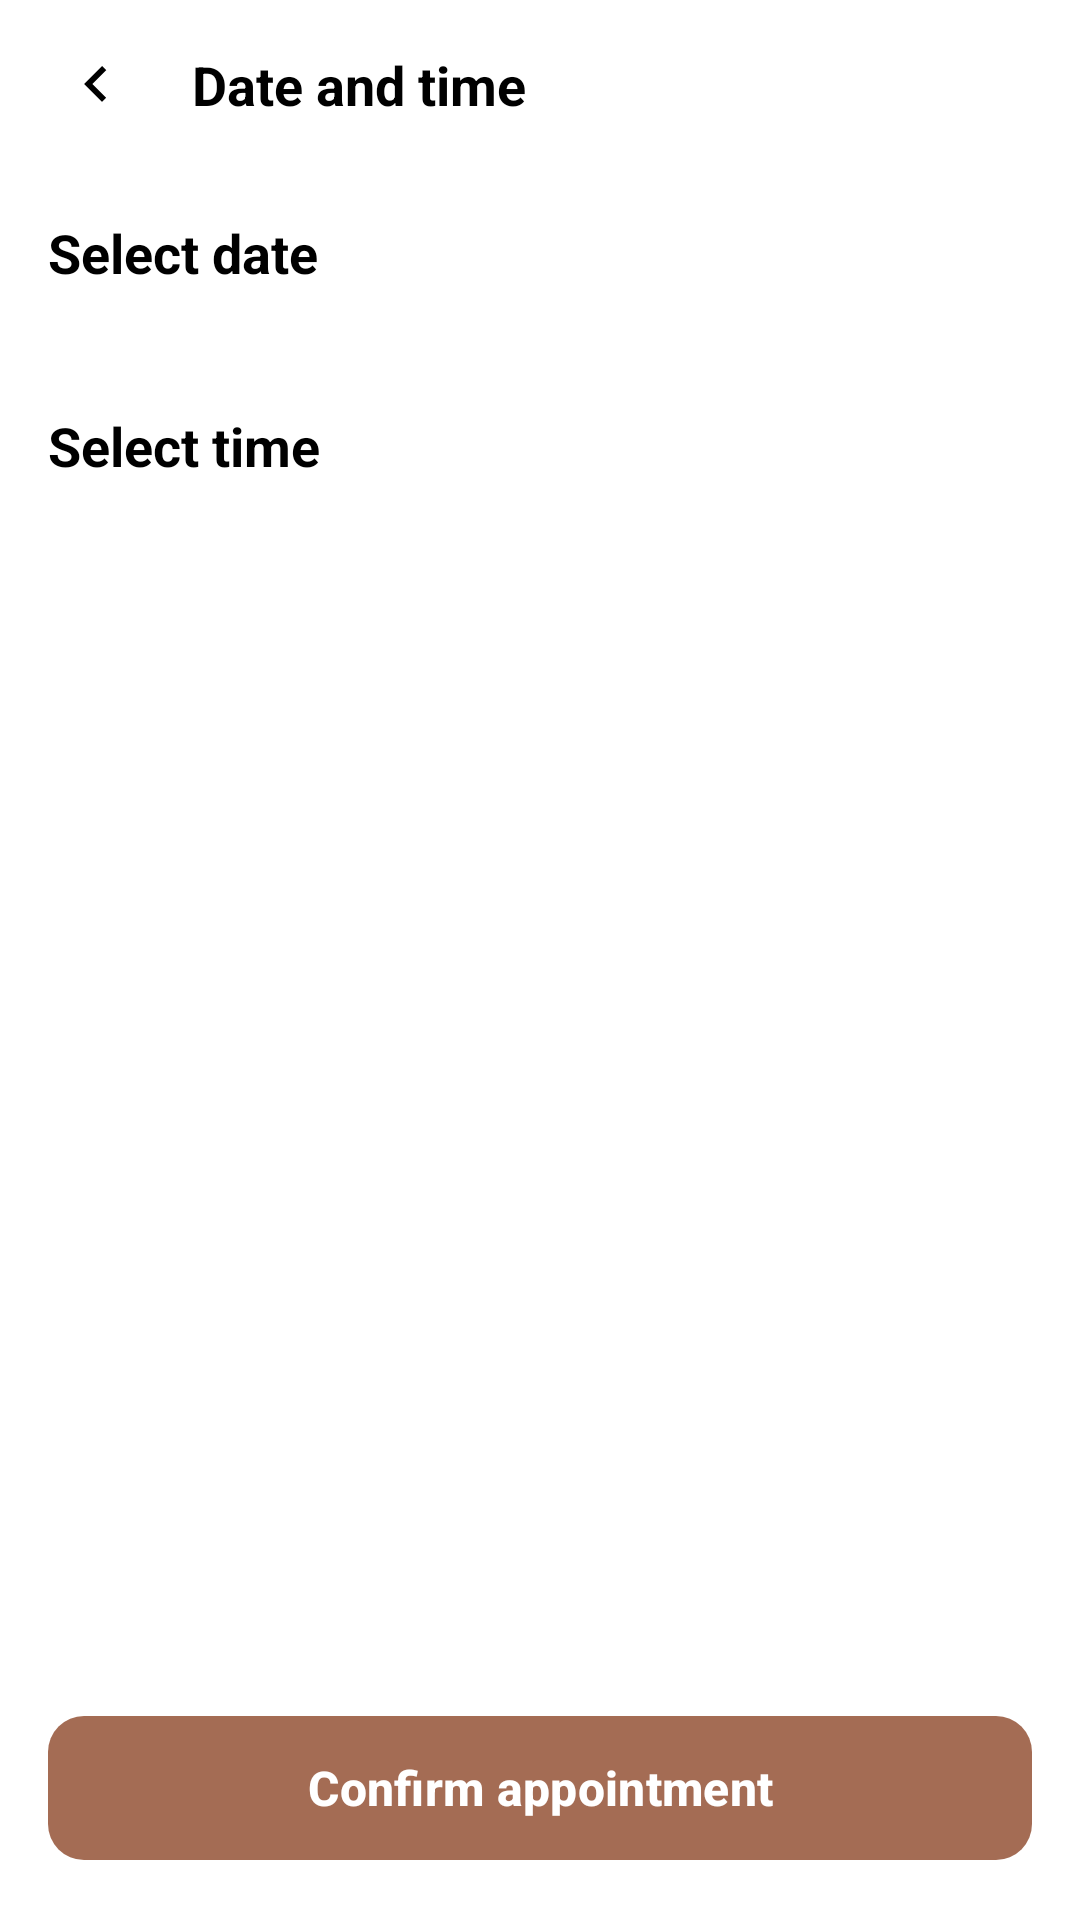

Where to tap for icons on this 1080 × 1920 app screen, as [x,y]:
back: [95,84]
